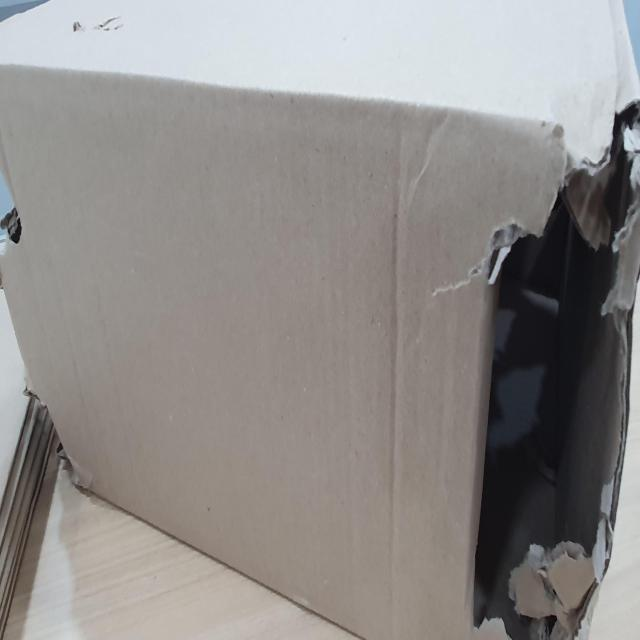damaged: (476, 80, 640, 640)
